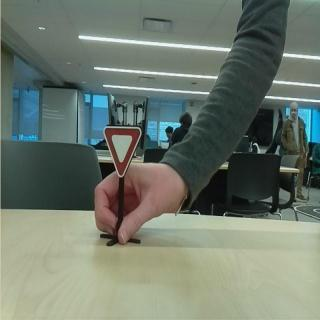sign_yield: (102, 126, 144, 182)
